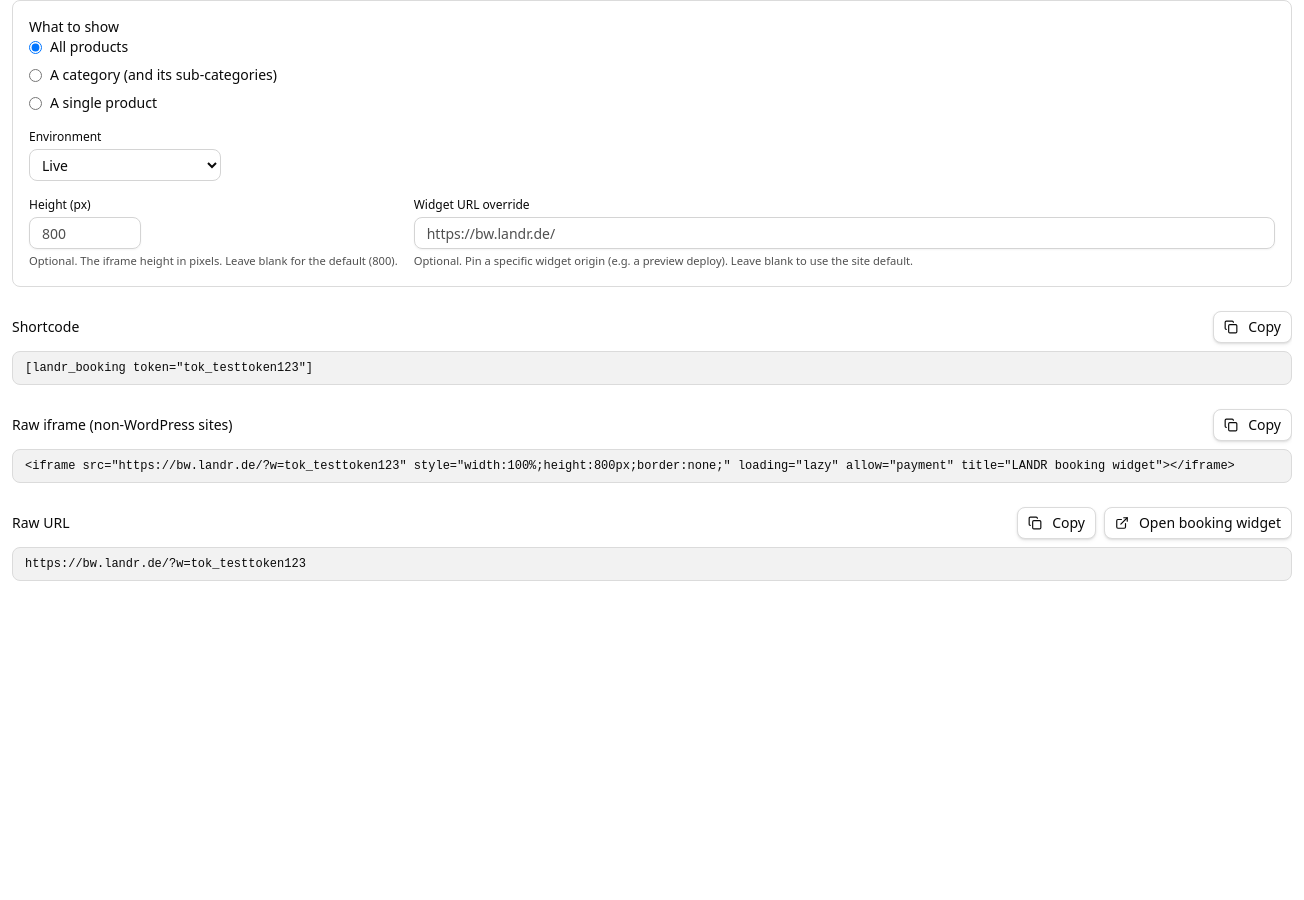
it: EmbedSettings (landr-up1b / landr-il9f.3) › adds a product= attr when a single product is selected
Click the radio button with test id "embed-mode-product": (36, 103) [29,96,42,110]
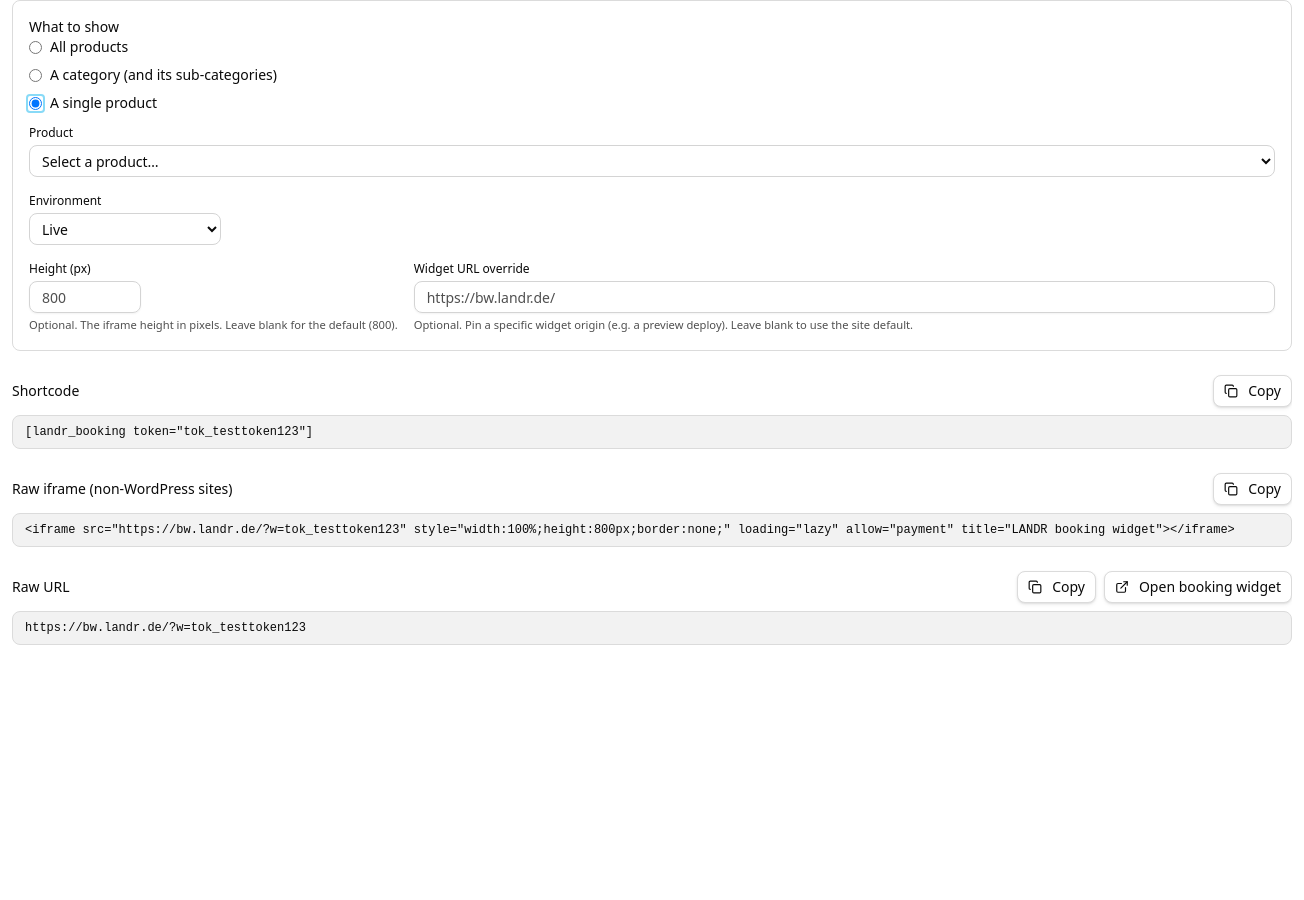
Select "Open Water" in the dropdown with test id "embed-product-select": (652, 161) [29,145,1275,177]
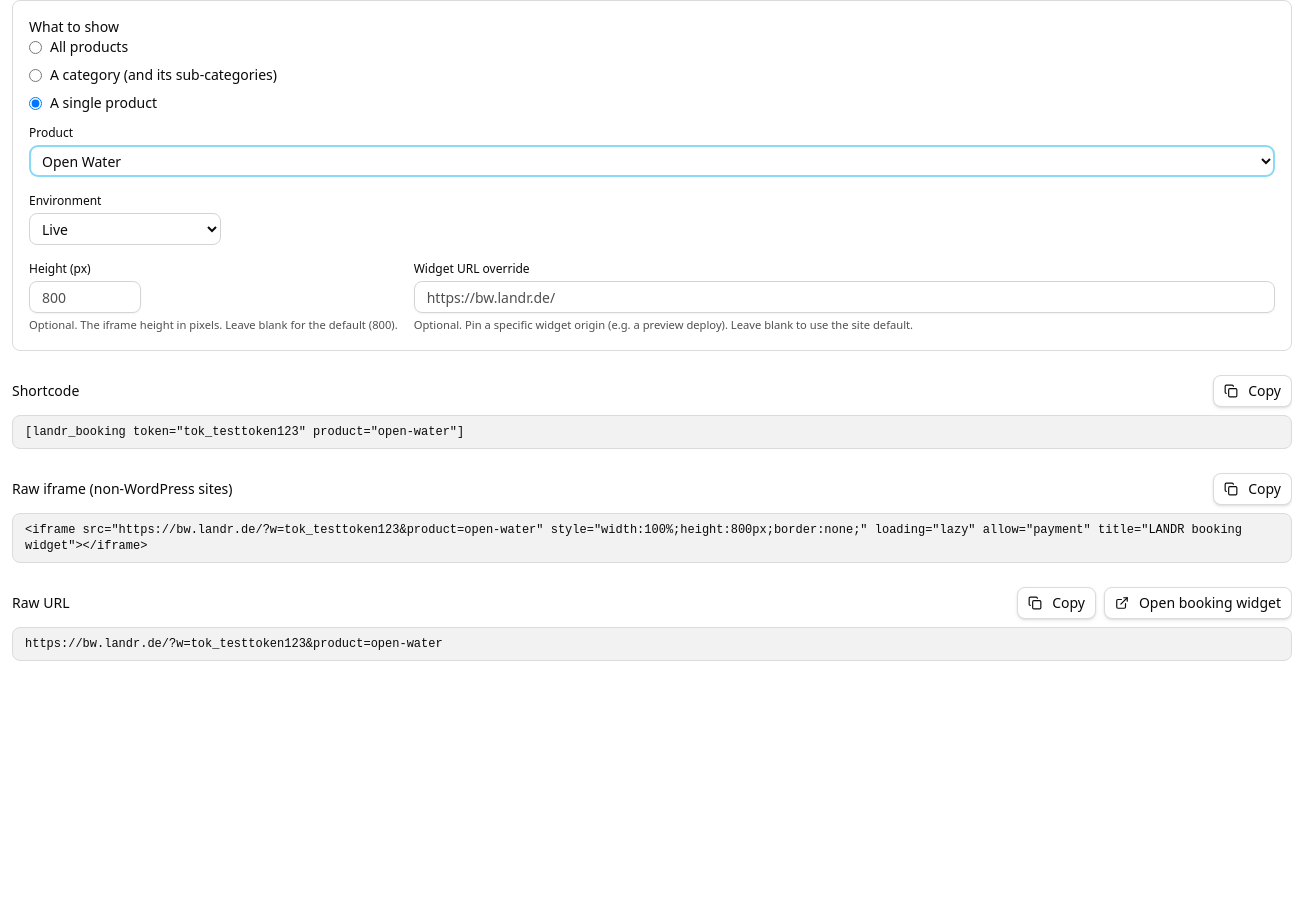
Expected: the text with test id "embed-shortcode-code" reads "[landr_booking token=\"tok_testtoken123\" product=\"open-water\"]", [25,425,464,439]
